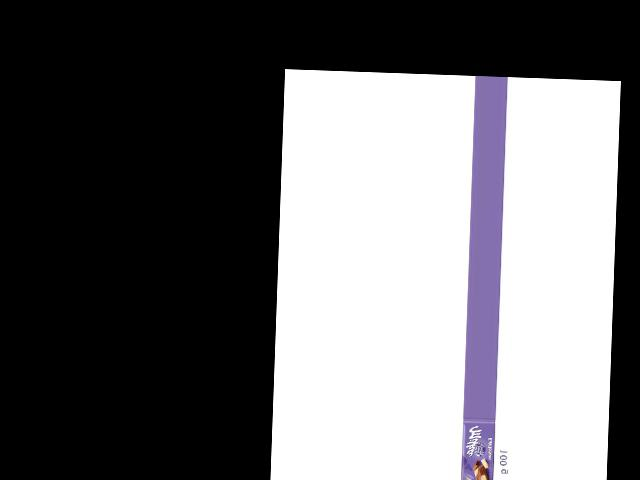chocolate: (459, 418, 500, 480)
